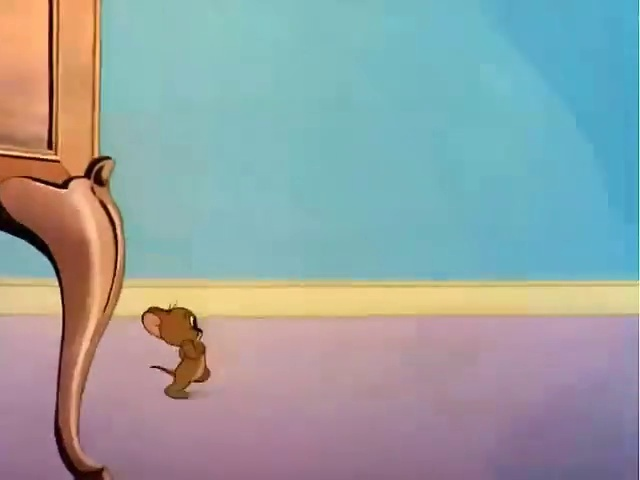jerry: (139, 279, 262, 439)
